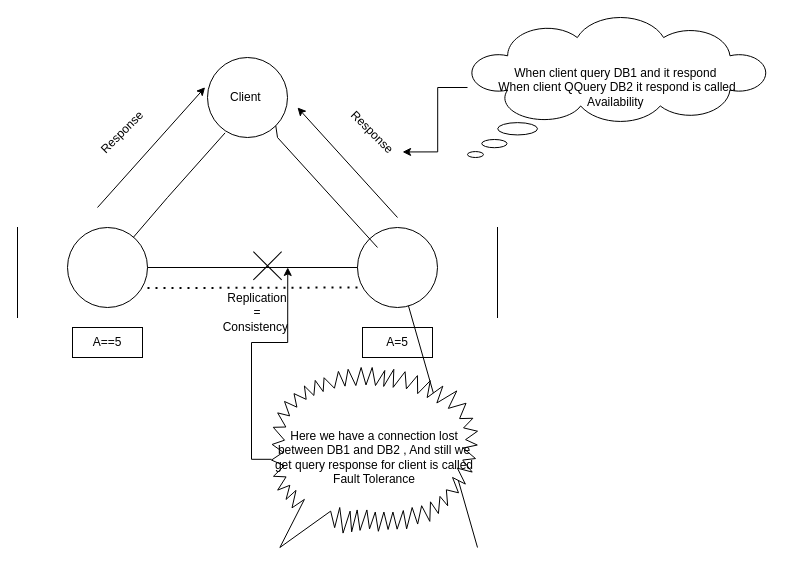
Some shapes in this 785 by 566 pixel diagram are drawn without their labels. The shapes that lost their labels are listed below. From the top down, each one's box as (x1, y1, x2, y2) in pixels, then its label:
(66, 226, 148, 308): DB(Node1)
(356, 226, 438, 308): DB(Node2)
